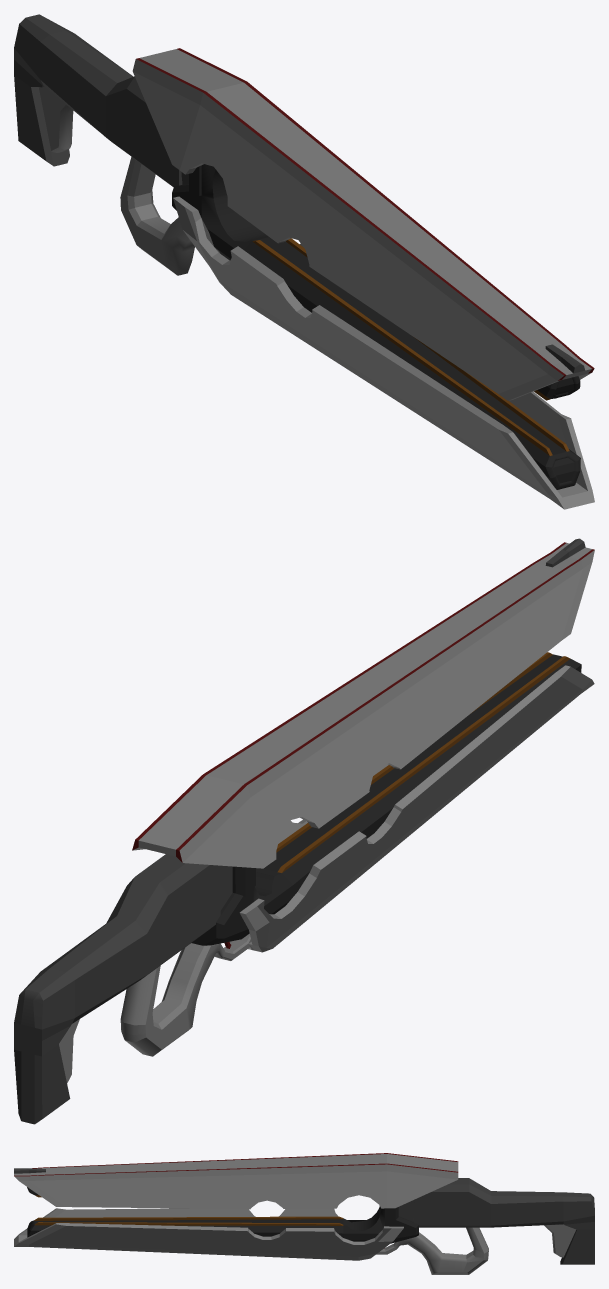
The model's file is SFR_12_L_res_alt_config 1.fbx.
3 renders of one model, top to bottom at view 1: azimuth 30°, elevation 25°; view 2: azimuth 150°, elevation 25°; view 3: azimuth 270°, elevation 25°, orthographic. The views are drawn at different scales.
Parts seen in each view (by area): view 1: polySurface6; view 2: polySurface6; view 3: polySurface6.
Part boxes in pixels (x1=…): polySurface6: x1=14, y1=14, x2=594, y2=509; polySurface6: x1=14, y1=538, x2=594, y2=1124; polySurface6: x1=14, y1=1153, x2=594, y2=1274.
Bounding box in the file's own units: 0.2438 × 0.5534 × 2.53.
